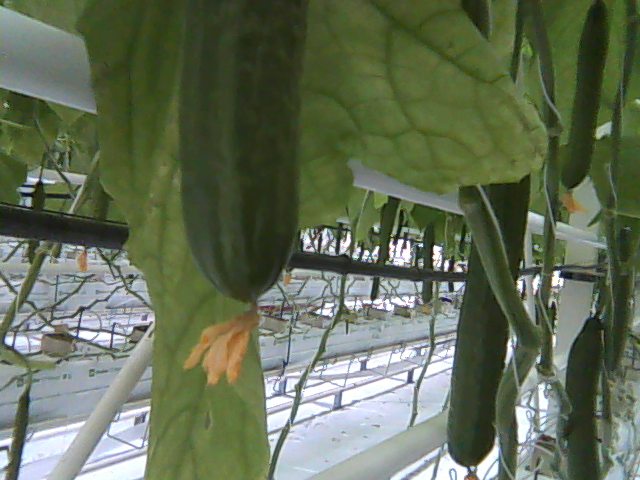concombre: (174, 1, 311, 388), (444, 178, 535, 480), (557, 1, 613, 212), (564, 312, 606, 480)
